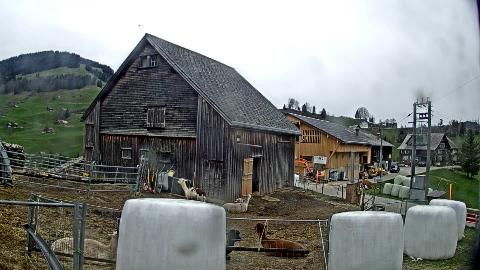car: (390, 166, 400, 172), (418, 162, 426, 166)
sheep: (51, 233, 120, 265), (256, 222, 306, 258), (177, 178, 207, 202), (226, 228, 242, 262), (227, 193, 251, 213), (222, 198, 244, 212)
